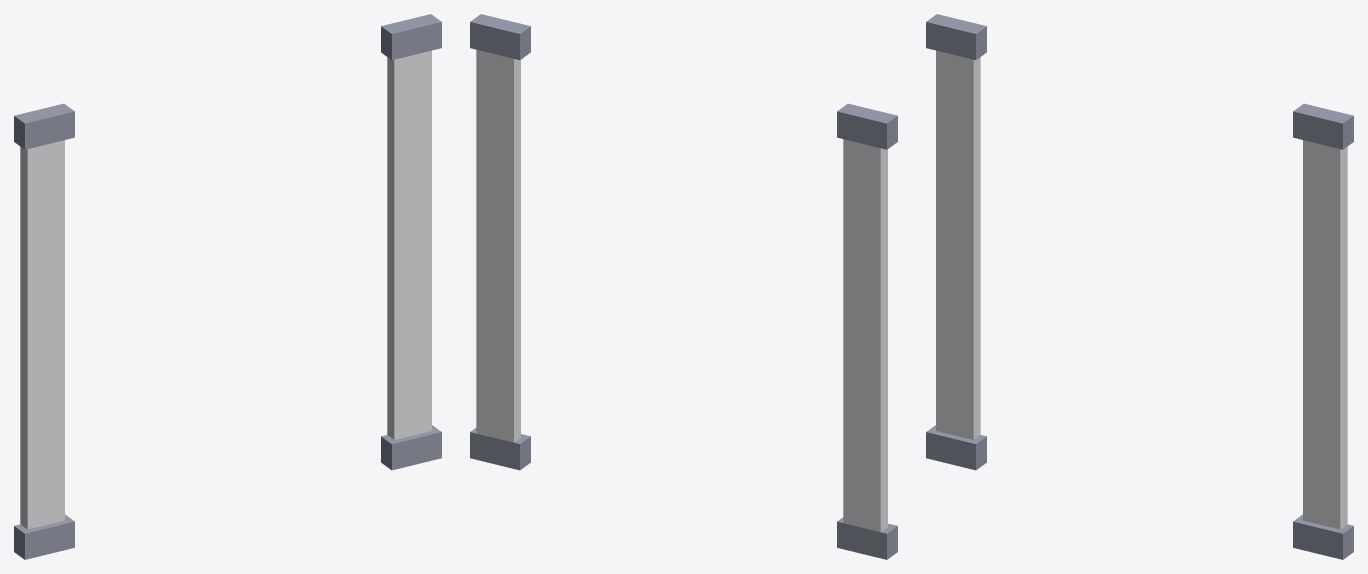
The model's file is pilasters.glb.
The picture shows the model from 3 angles, left to right: view 1: azimuth 30°, elevation 25°; view 2: azimuth 150°, elevation 25°; view 3: azimuth 330°, elevation 25°; orthographic projection.
Parts seen in each view (by area): view 1: pilasters; view 2: pilasters; view 3: pilasters.
Part boxes in pixels (x1,y1,x2,y2): pilasters: [14, 14, 441, 559]; pilasters: [470, 14, 897, 559]; pilasters: [926, 14, 1353, 559].
Bounding box in the file's own units: 1 × 1 × 0.045.
Materials: 1 (1 with a texture image).
